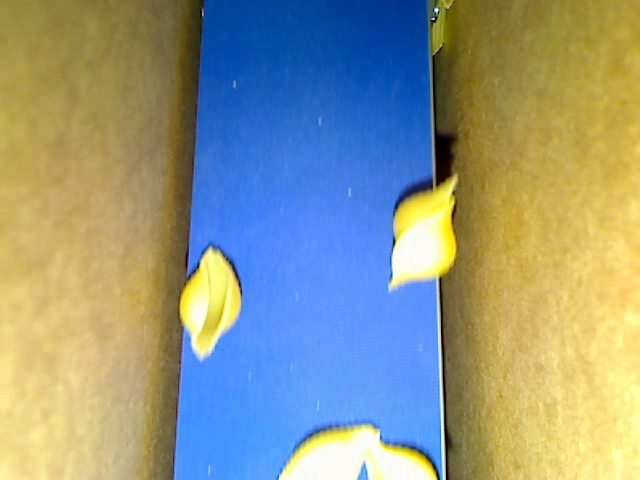penne: (429, 1, 448, 64)
shell: (180, 248, 244, 360), (389, 195, 459, 291), (282, 422, 377, 479), (390, 168, 459, 243), (363, 437, 434, 479)
